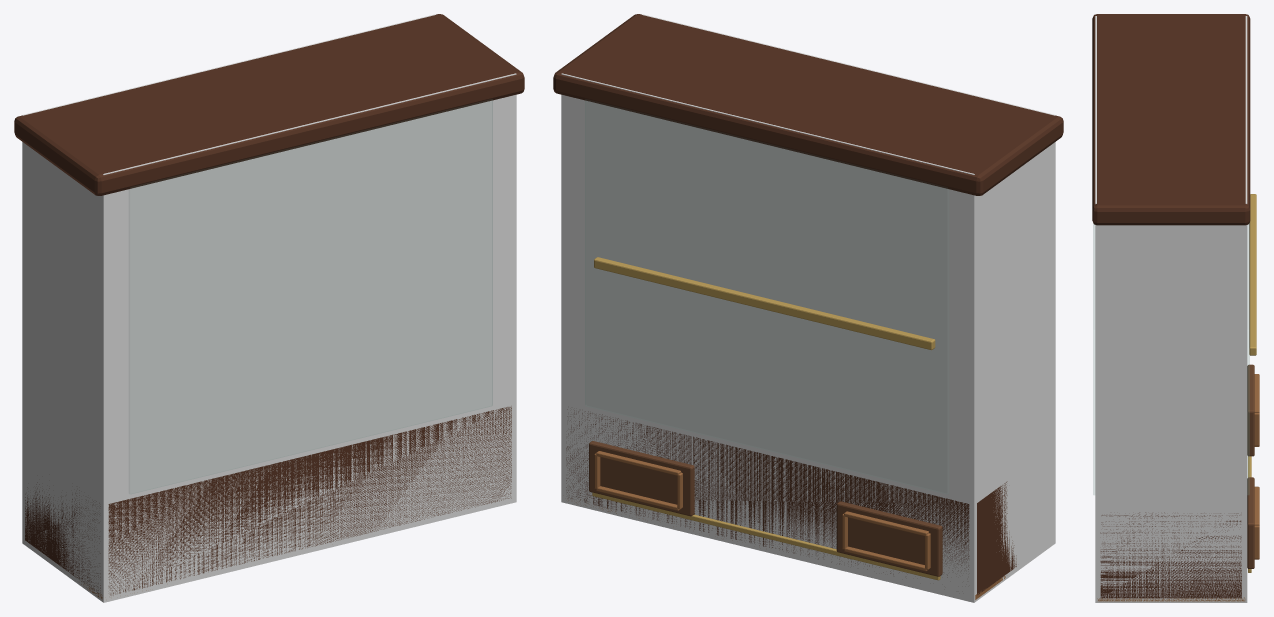
File: executive.glb
3 views of the same model, side by side, from view 1: azimuth 30°, elevation 25°; view 2: azimuth 150°, elevation 25°; view 3: azimuth 270°, elevation 25° (orthographic). The views are drawn at different scales.
Parts seen in each view (by area): view 1: COL_GLASS_SHOWCASES_EXECUTIVE, Showcase_Cornice, Showcase_Plinth.006, Showcase_GlassBack.004; view 2: COL_GLASS_SHOWCASES_EXECUTIVE, Showcase_Cornice, Showcase_Plinth.006, Showcase_BaseDoor, Showcase_BaseDoor.001, Showcase_LockingRail, Showcase_BrassToeKick.001, Showcase_GlassFront.004; view 3: COL_GLASS_SHOWCASES_EXECUTIVE, Showcase_Cornice, Showcase_Plinth.006, Showcase_LockingRail, Showcase_GlassFront.004, Showcase_BaseDoor, Showcase_BaseDoor.001, Showcase_GlassBack.004, Showcase_SteppedPlinth.
Part boxes in pixels (left/top/right/bottom): COL_GLASS_SHOWCASES_EXECUTIVE: left=22, top=14, right=516, bottom=602; Showcase_Cornice: left=14, top=14, right=524, bottom=195; Showcase_Plinth.006: left=25, top=406, right=511, bottom=595; Showcase_GlassBack.004: left=129, top=99, right=492, bottom=493; COL_GLASS_SHOWCASES_EXECUTIVE: left=561, top=14, right=1055, bottom=602; Showcase_Cornice: left=553, top=14, right=1063, bottom=195; Showcase_Plinth.006: left=566, top=409, right=1016, bottom=595; Showcase_BaseDoor: left=836, top=501, right=942, bottom=576; Showcase_BaseDoor.001: left=589, top=441, right=694, bottom=516; Showcase_LockingRail: left=594, top=257, right=935, bottom=350; Showcase_BrassToeKick.001: left=592, top=492, right=940, bottom=580; Showcase_GlassFront.004: left=585, top=99, right=948, bottom=493; COL_GLASS_SHOWCASES_EXECUTIVE: left=1095, top=16, right=1247, bottom=602; Showcase_Cornice: left=1092, top=14, right=1250, bottom=225; Showcase_Plinth.006: left=1100, top=512, right=1241, bottom=598; Showcase_LockingRail: left=1249, top=194, right=1256, bottom=355; Showcase_GlassFront.004: left=1247, top=223, right=1249, bottom=494; Showcase_BaseDoor: left=1247, top=364, right=1254, bottom=456; Showcase_BaseDoor.001: left=1247, top=477, right=1254, bottom=568; Showcase_GlassBack.004: left=1093, top=224, right=1094, bottom=494; Showcase_SteppedPlinth: left=1097, top=597, right=1245, bottom=601.
Size of the model in its own units: 2.22 by 2.11 by 0.8016.
